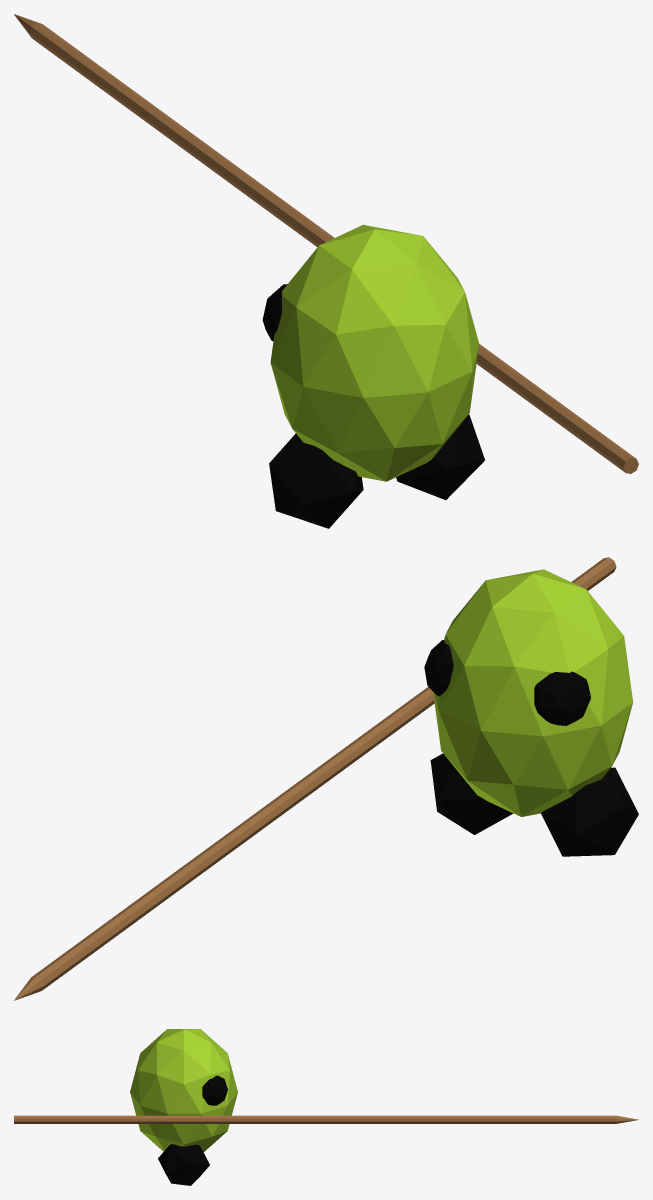
Rendered from stab.f0006.glb.
The picture shows the model from 3 angles, top to bottom: view 1: azimuth 30°, elevation 25°; view 2: azimuth 150°, elevation 25°; view 3: azimuth 270°, elevation 25°; orthographic projection. The views are drawn at different scales.
Parts seen in each view (by area): view 1: Body.001; view 2: Body.001; view 3: Body.001.
Boxes of the visible parts, x1,y1,x2,y2 form: Body.001: [14, 14, 638, 528]; Body.001: [14, 557, 638, 1000]; Body.001: [14, 1029, 638, 1185].
Bounding box in the file's own units: 2.17 × 2.85 × 11.56.
1 material, 1 textured.
